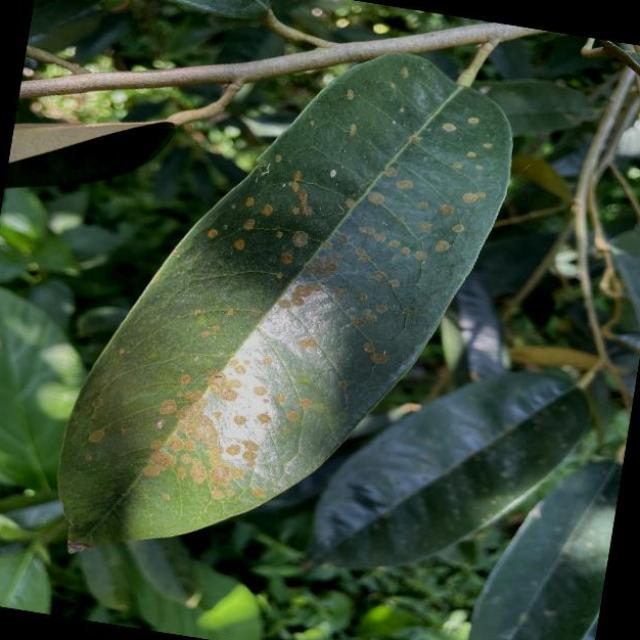Algal Leaf Spot: (34, 1, 538, 620)
